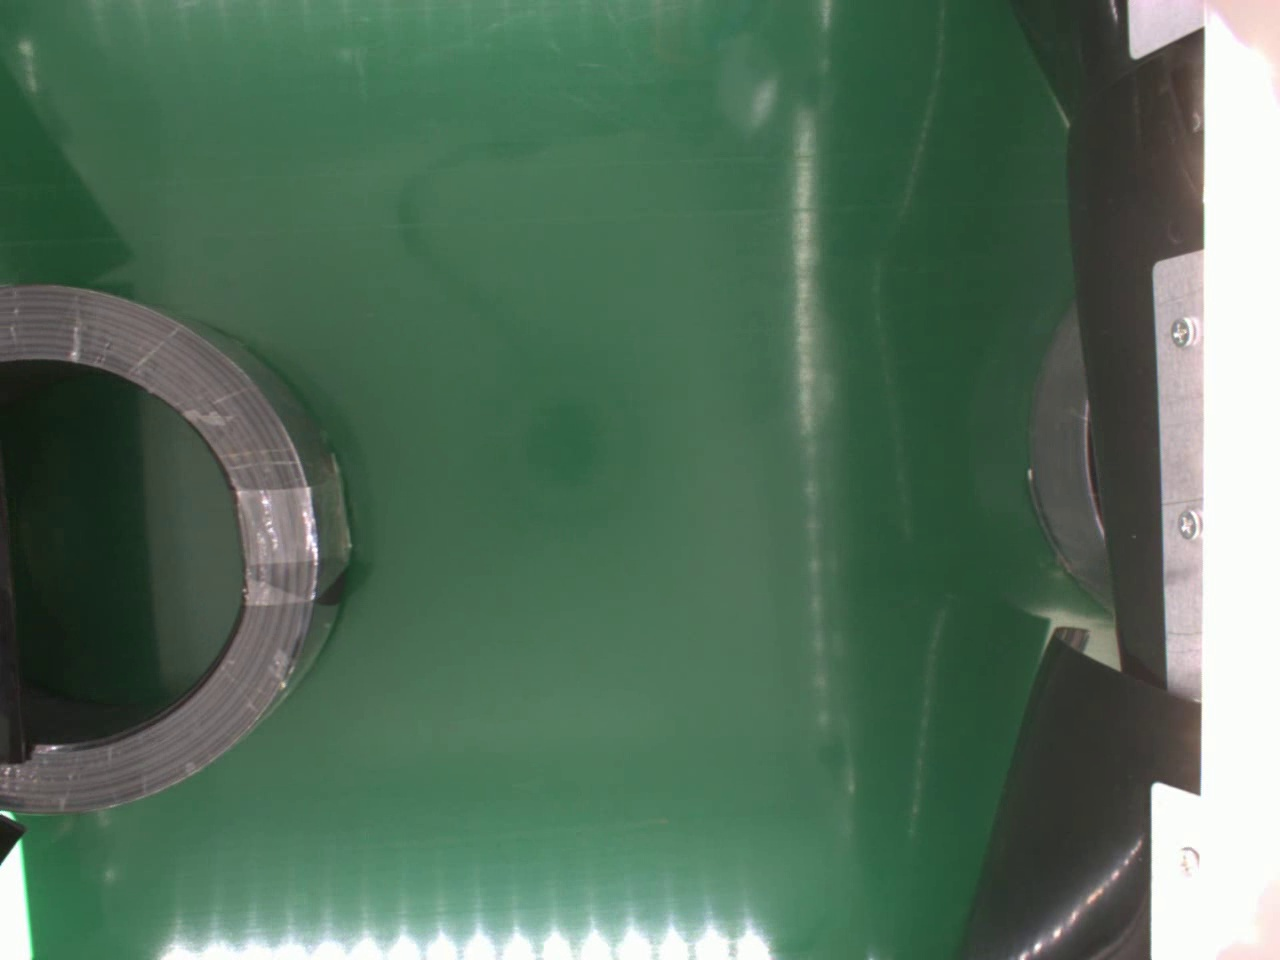black: (0, 276, 348, 816)
